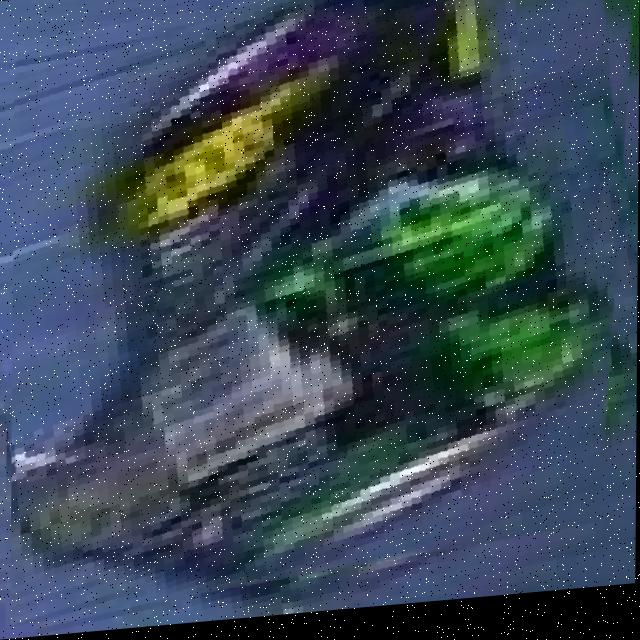litter: (12, 0, 619, 609)
